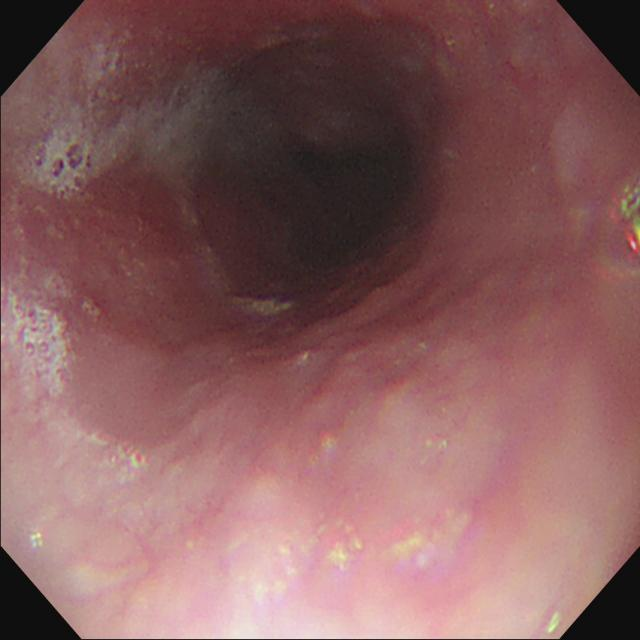E: (283, 125, 400, 260)
T: (31, 52, 197, 197), (2, 289, 80, 404)
